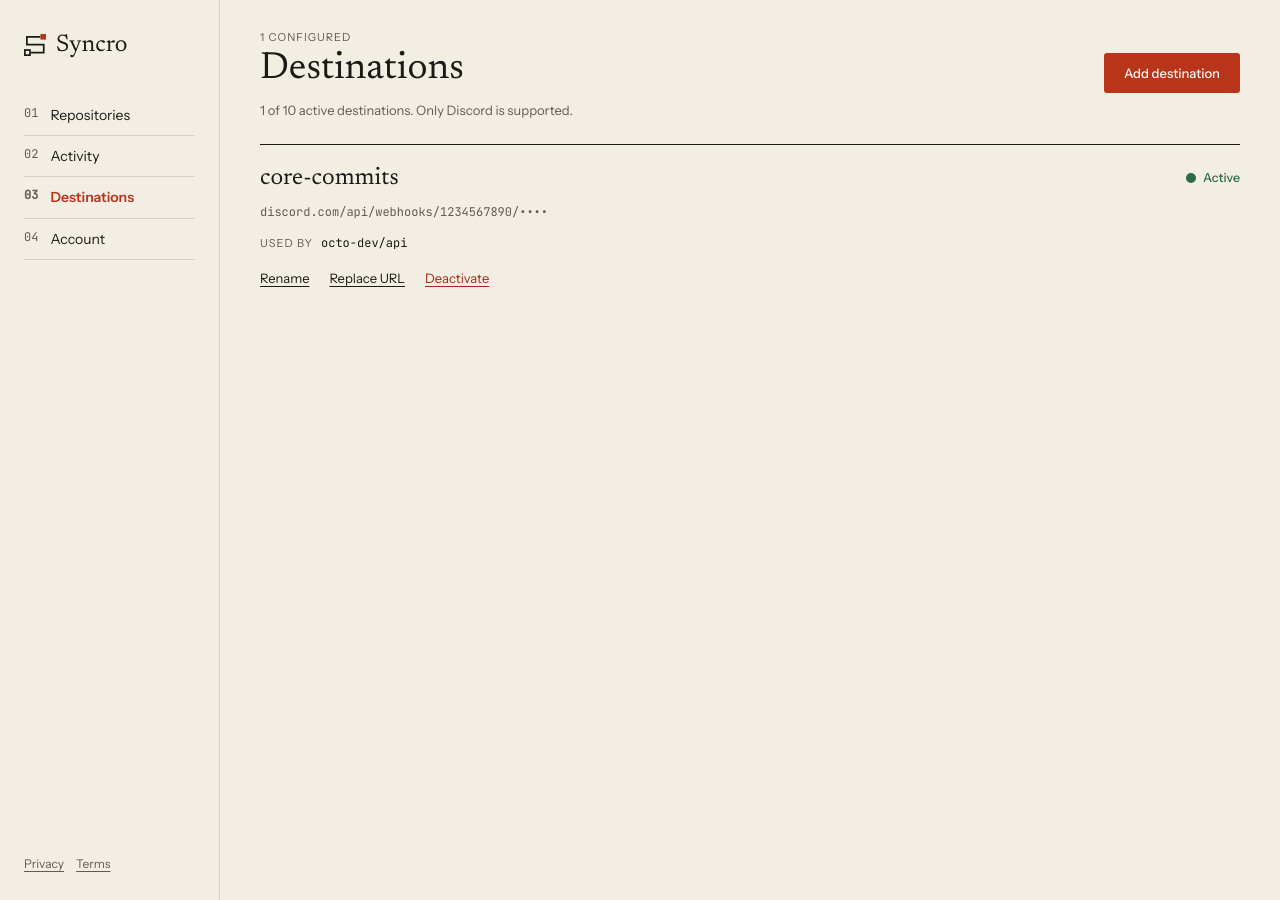
Test: webhook URL input › is cleared and not echoed when the server rejects it
The width and height of the screenshot is (1280, 900).
Click the button "Add destination" at {"x": 1172, "y": 73}, box [1104,53,1240,93]
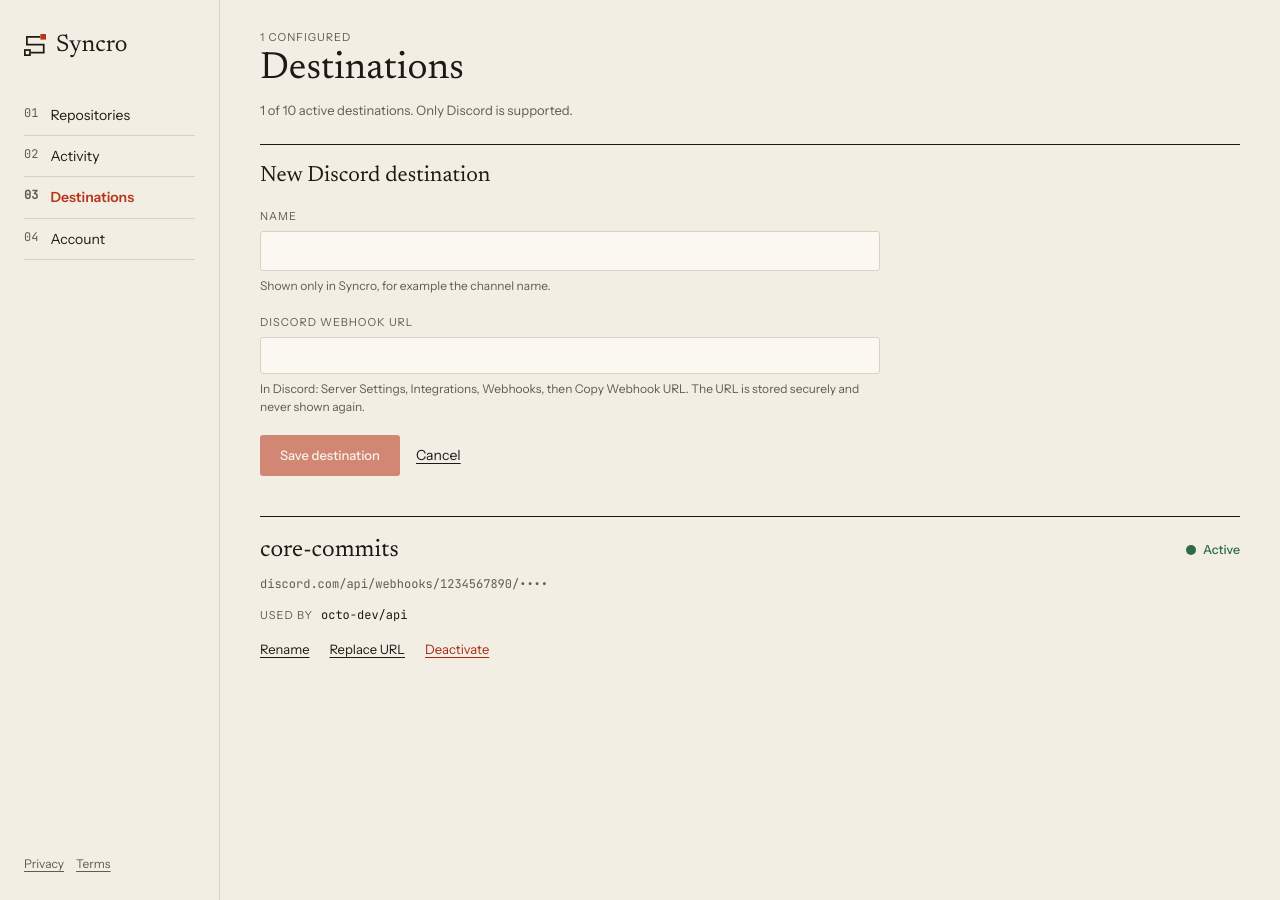
Type "x" into the field labelled "Name" at {"x": 570, "y": 251}, box [260,231,880,271]
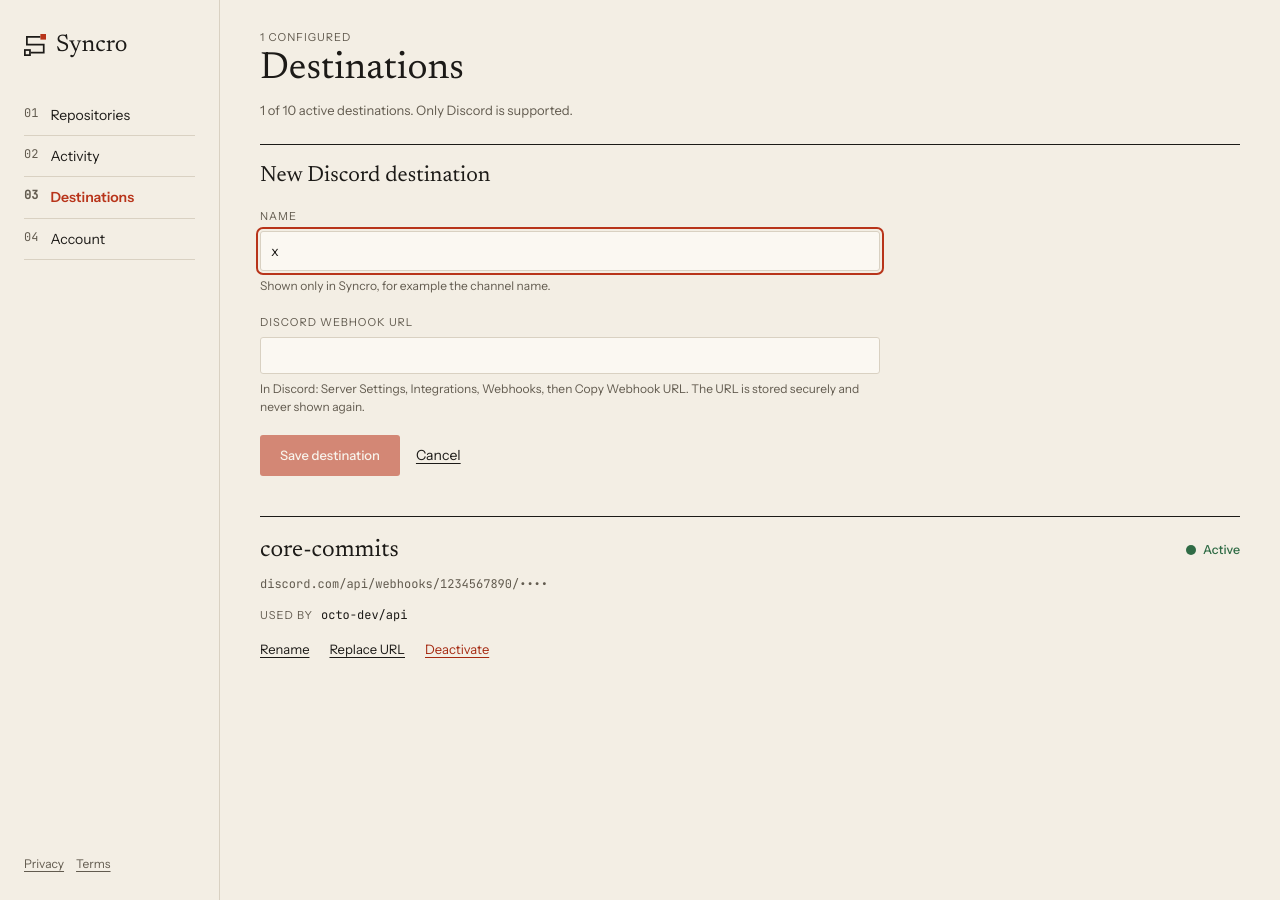
Type "https://discord.com/api/webhooks/123456789012345678/Sup3rSecretT0ken_value-abc" into the password field labelled "Discord webhook URL" at {"x": 570, "y": 355}, box [260,337,880,374]
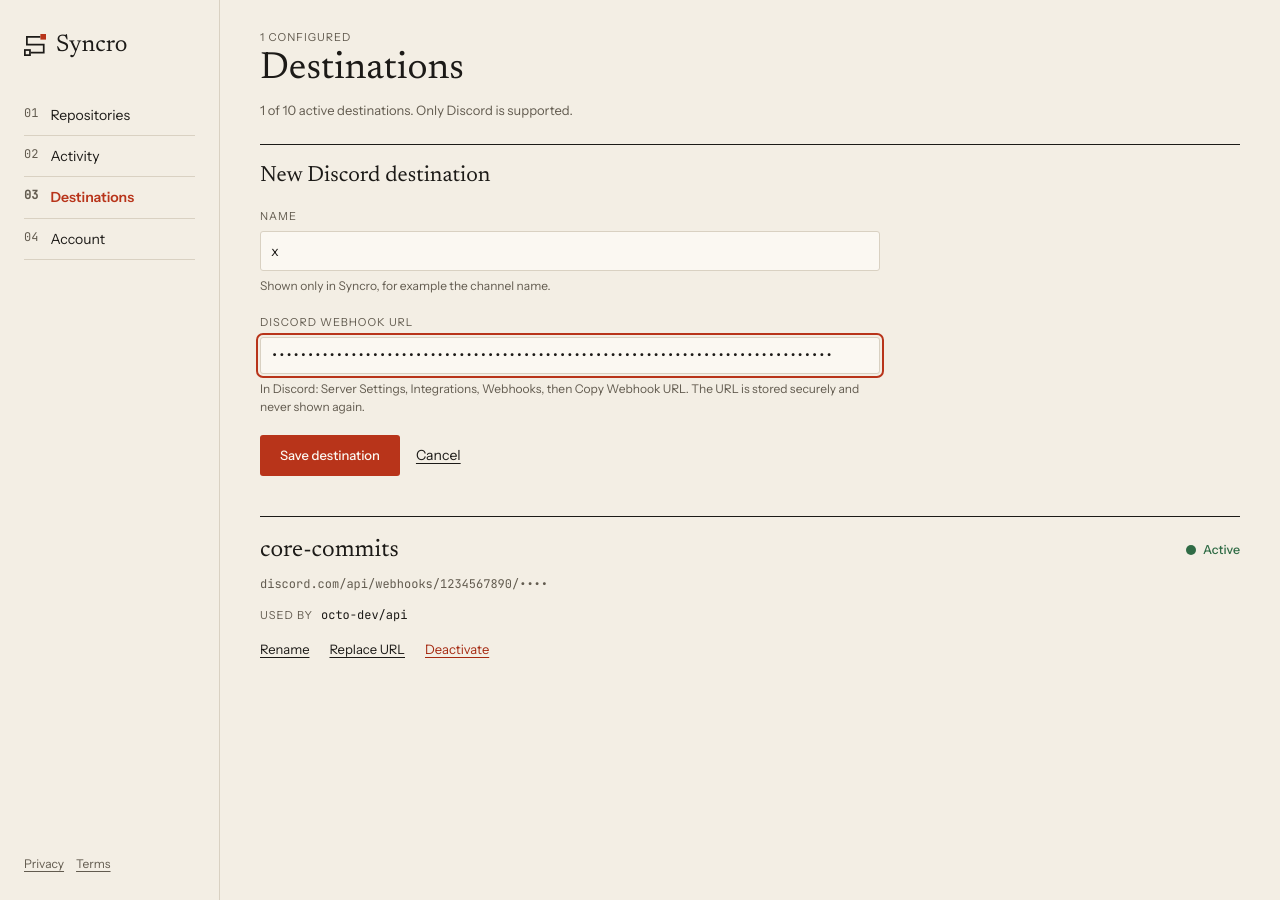
Click the button "Save destination" at {"x": 330, "y": 455}, box [260,435,400,476]
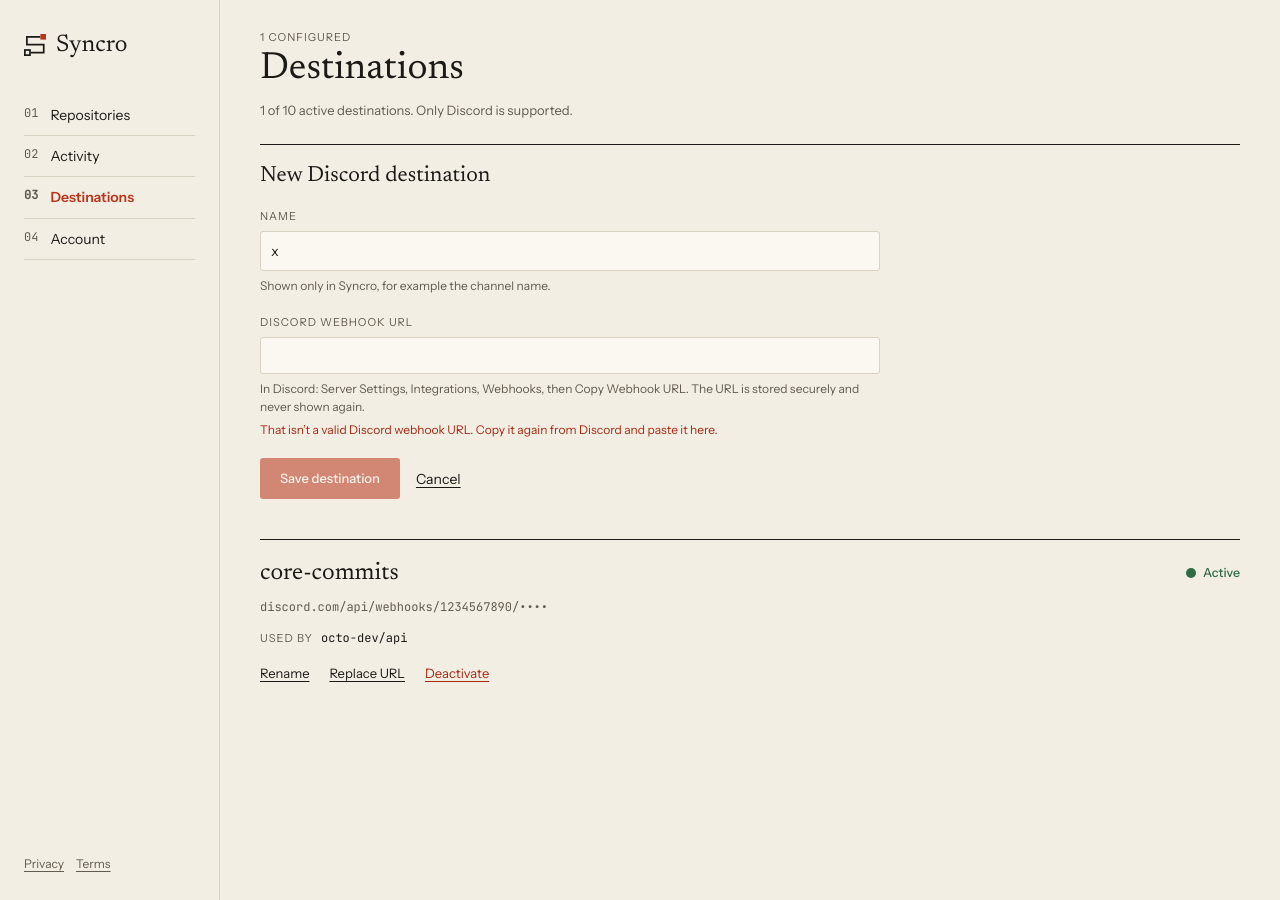
Expected: the text "isn’t a valid Discord webhook URL" is shown, [260,422,718,437]
Expected: the password field labelled "Discord webhook URL" is empty, [260,337,880,374]
